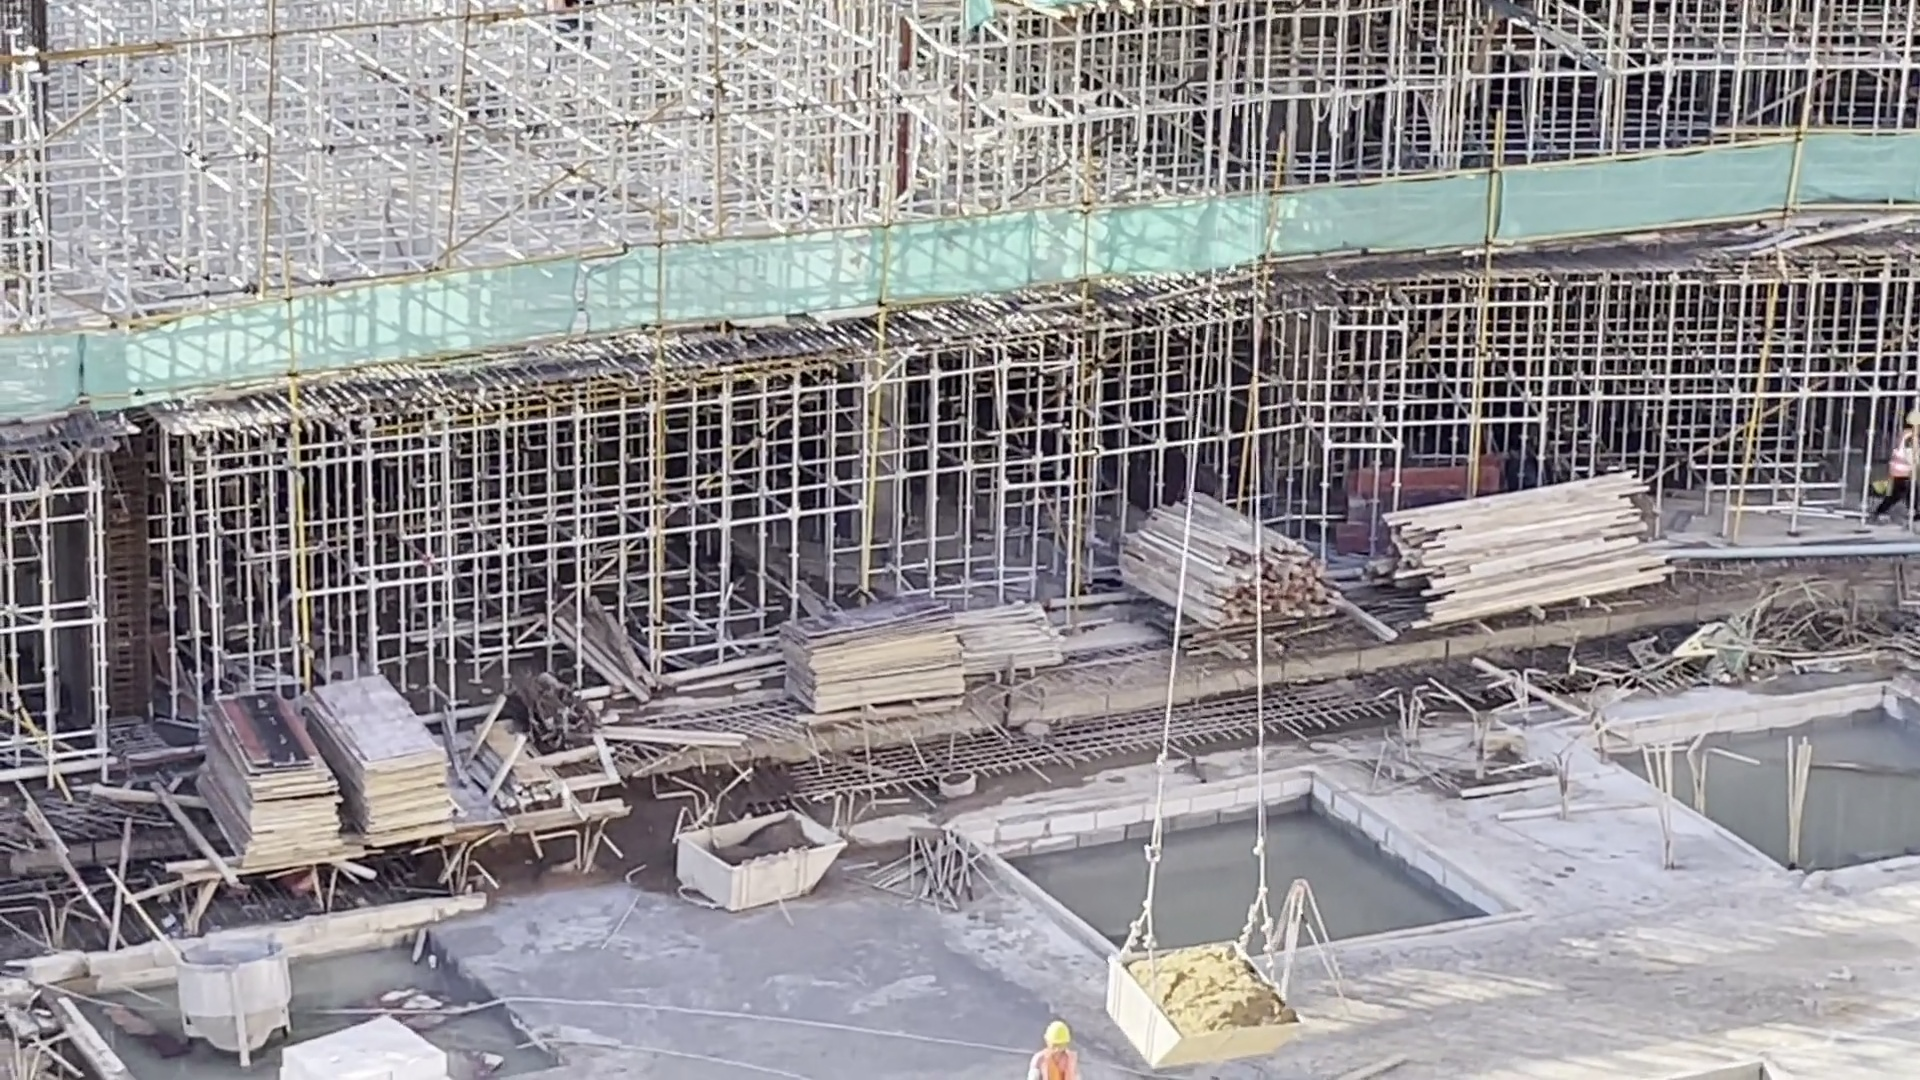board: (185, 689, 349, 878), (307, 669, 463, 850), (774, 590, 970, 722)
brick: (267, 1013, 454, 1080)
helmet: (1040, 1019, 1074, 1045)
hopper: (1096, 931, 1300, 1068), (667, 809, 852, 916), (173, 932, 295, 1064)
person: (1873, 411, 1920, 521), (1023, 1021, 1086, 1080)
vest: (1034, 1049, 1083, 1080), (1885, 428, 1912, 477)
wood: (1381, 472, 1680, 632), (1122, 490, 1345, 639)
